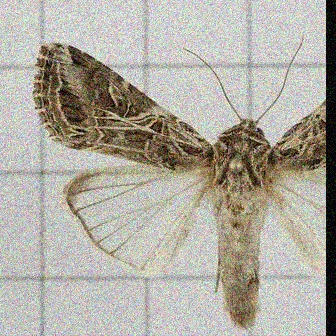Spodoptera litura: (31, 33, 326, 329)
